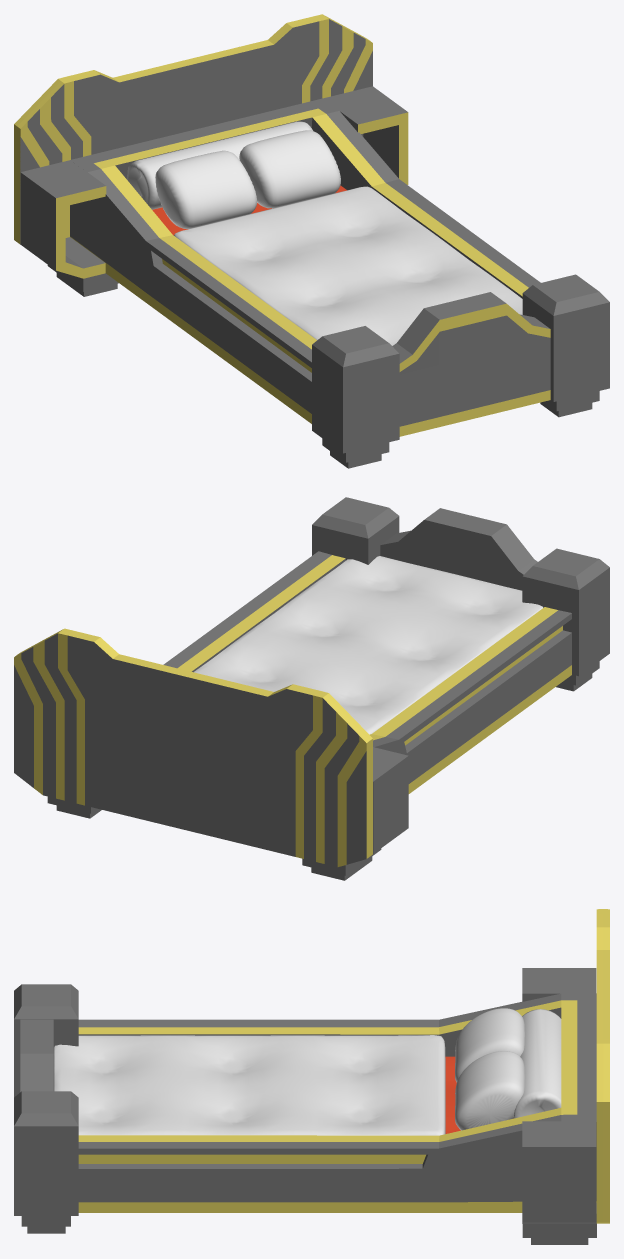
The model's file is bed_tier20.fbx.
The picture shows the model from 3 angles, top to bottom: view 1: azimuth 30°, elevation 25°; view 2: azimuth 150°, elevation 25°; view 3: azimuth 270°, elevation 25°; orthographic projection. The views are drawn at different scales.
Parts seen in each view (by area): view 1: Cube, Cube.001, Cube.008, Cylinder.001, Cube.002, Cube.003, Cube.007, Cube.009, Cube.004; view 2: Cube.008, Cube.001, Cube, Cube.002, Cube.003, Cube.007, Cube.004, Cube.005; view 3: Cube, Cube.001, Cube.003, Cube.009, Cylinder.001, Cube.008, Cube.002, Cube.007, Cube.005, Cube.006.
Part boxes in pixels (bbox=[...]): Cube: bbox=[70, 98, 550, 436]; Cube.001: bbox=[127, 121, 522, 345]; Cube.008: bbox=[14, 14, 372, 244]; Cylinder.001: bbox=[155, 130, 340, 228]; Cube.002: bbox=[312, 326, 399, 468]; Cube.003: bbox=[522, 274, 609, 417]; Cube.007: bbox=[20, 160, 106, 278]; Cube.009: bbox=[324, 86, 408, 184]; Cube.004: bbox=[47, 265, 118, 296]; Cube.008: bbox=[14, 628, 372, 867]; Cube.001: bbox=[194, 556, 543, 734]; Cube: bbox=[163, 508, 571, 793]; Cube.002: bbox=[522, 548, 609, 691]; Cube.003: bbox=[312, 497, 399, 564]; Cube.007: bbox=[373, 747, 408, 853]; Cube.004: bbox=[302, 848, 381, 880]; Cube.005: bbox=[47, 796, 101, 818]; Cube: bbox=[20, 993, 596, 1212]; Cube.001: bbox=[53, 1009, 561, 1135]; Cube.003: bbox=[14, 1091, 78, 1233]; Cube.009: bbox=[522, 1121, 596, 1223]; Cylinder.001: bbox=[455, 1008, 524, 1130]; Cube.008: bbox=[596, 909, 609, 1223]; Cube.002: bbox=[14, 984, 78, 1097]; Cube.007: bbox=[522, 968, 596, 1001]; Cube.005: bbox=[522, 1203, 596, 1244]; Cube.006: bbox=[445, 1056, 460, 1133].
Size of the model in its own units: 263 by 134 by 369.
